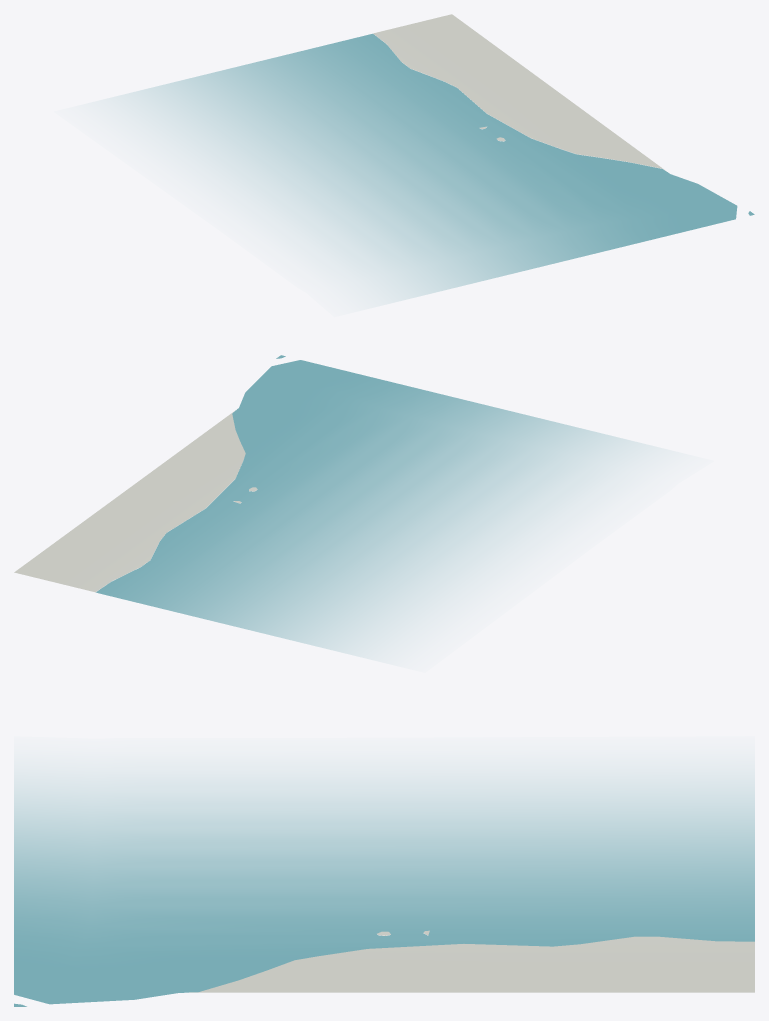
3 views of the same model, one above another, from view 1: azimuth 30°, elevation 25°; view 2: azimuth 150°, elevation 25°; view 3: azimuth 270°, elevation 25° (orthographic). The views are drawn at different scales.
Parts seen in each view (by area): view 1: city; view 2: city; view 3: city.
Boxes of the visible parts, box(x1,y1,x2,y2) form: city: box(112, 14, 754, 302); city: box(14, 355, 653, 657); city: box(14, 773, 754, 1006).
Size of the model in its own units: 473 by 0.18 by 500.
